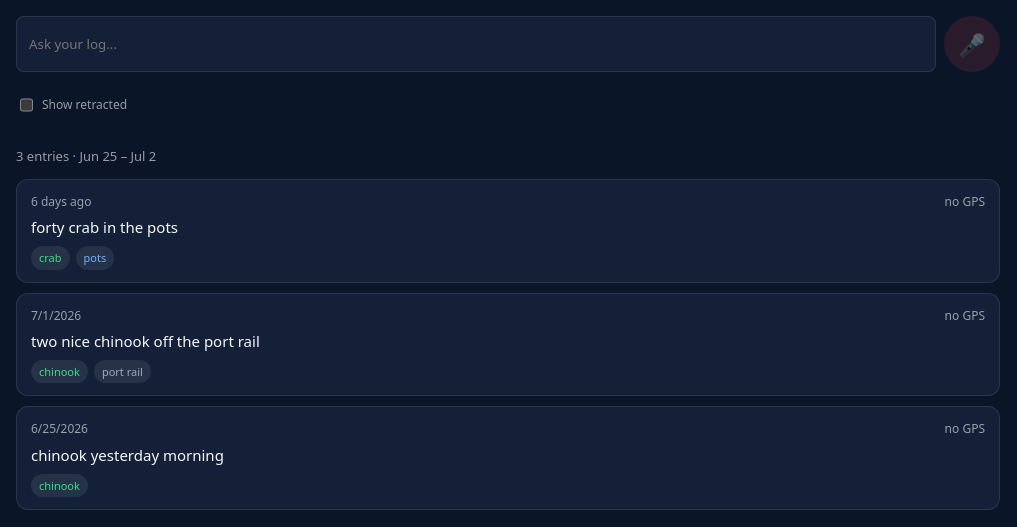
Scenario: TimelineScreen ask-to-timeline wiring › shows looseners and a nearest-miss probe when text over-constrains the query
The image size is (1017, 527).
Note: "halibut" does not appear in any entry, but "last week" has one entry.
Type "halibut last week" into the search field labelled "Ask your log".
click(476, 44); type("halibut last week")  # box [16,16,936,72]
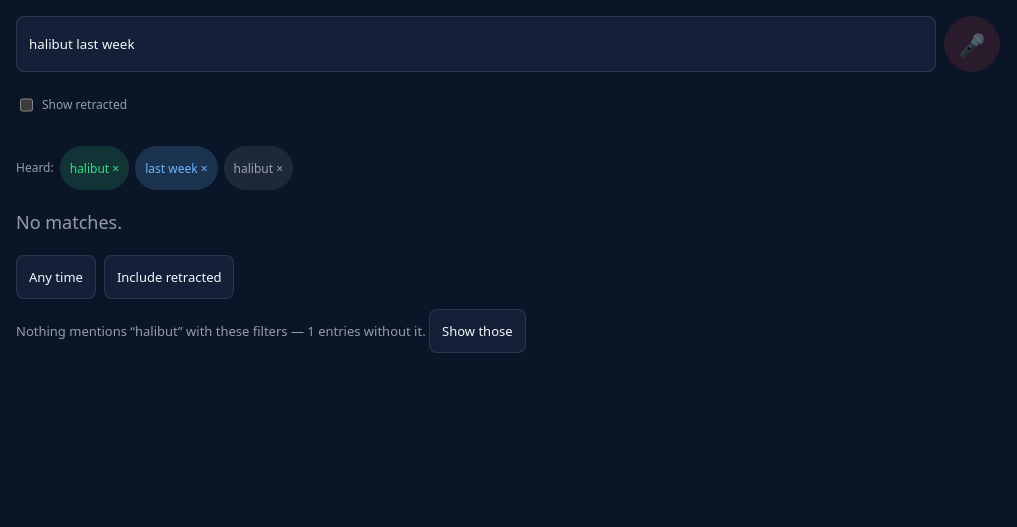
expect the text "No matches." is shown: met, box [16,210,122,234]
expect the button "Any time" is shown: met, box [16,255,96,299]
Note: Tapping "Show those" removes the text chip and shows the week-old entry.
Click the button "Show those".
click(477, 331)  # box [429,309,526,353]
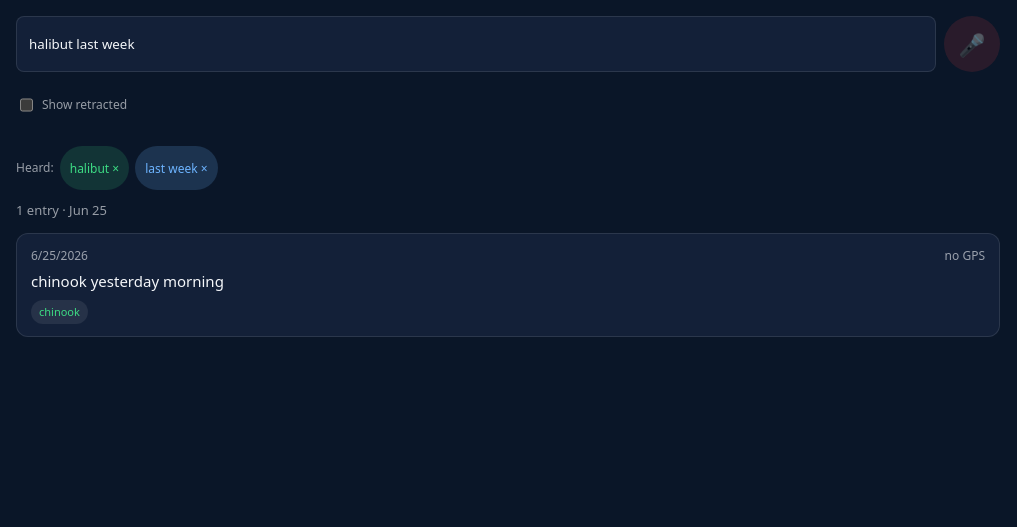
expect the text "chinook yesterday morning" is shown: met, box [31,271,224,291]
